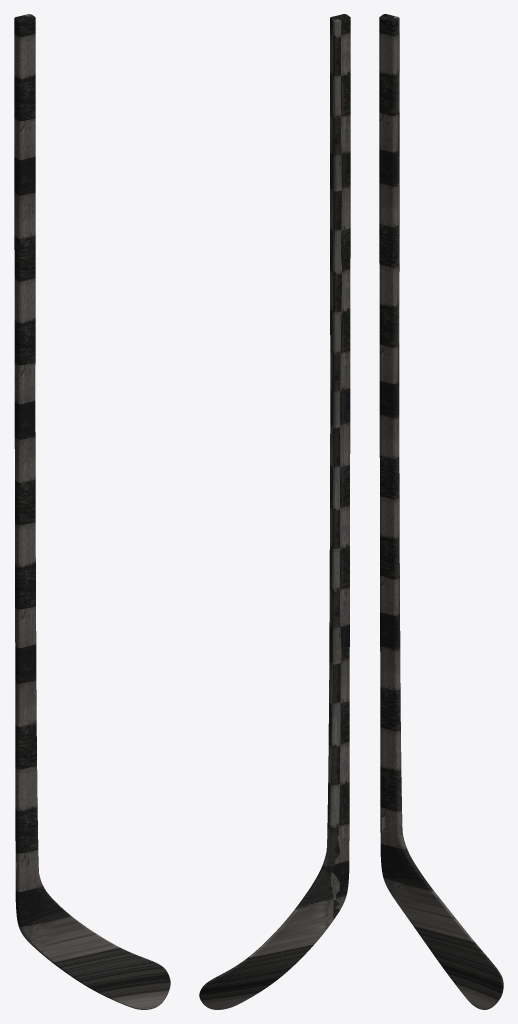
The model's file is P92M-SBT.glb.
The picture shows the model from 3 angles, left to right: view 1: azimuth 30°, elevation 25°; view 2: azimuth 210°, elevation 25°; view 3: azimuth 330°, elevation 25°; orthographic projection. The views are drawn at different scales.
Visible parts, largest first — view 1: geometry_0; view 2: geometry_0; view 3: geometry_0.
Part boxes in pixels (box(x1,y1,x2,y2)): geometry_0: box(14, 14, 170, 1009); geometry_0: box(199, 14, 350, 1009); geometry_0: box(379, 14, 503, 1009).
Size of the model in its own units: 241 by 1650 by 56.15.
Materials: 1 (1 with a texture image).
